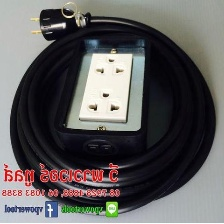three_eye_plug: (49, 29, 155, 165)
